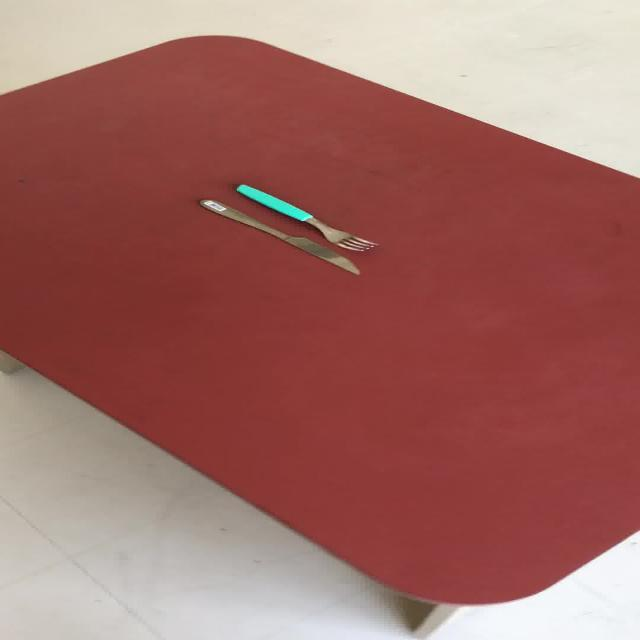fork: (234, 183, 378, 251)
knife fork: (196, 198, 360, 275)
